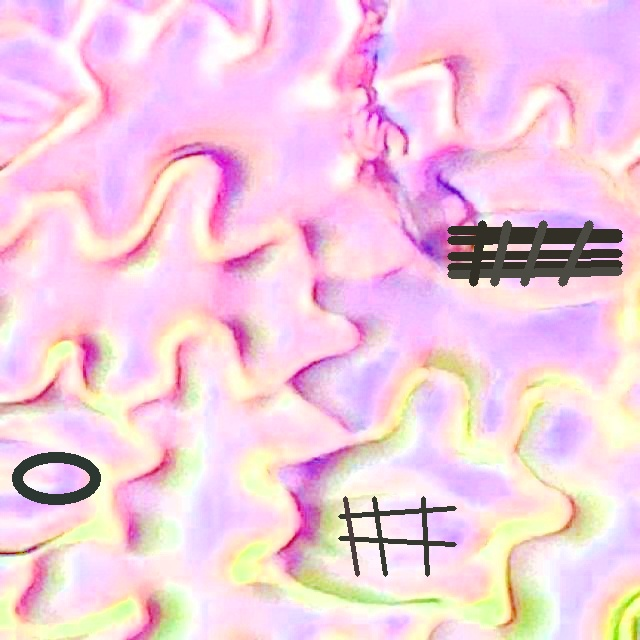close: (447, 220, 622, 286), (338, 496, 456, 576)
open: (12, 451, 99, 505)
